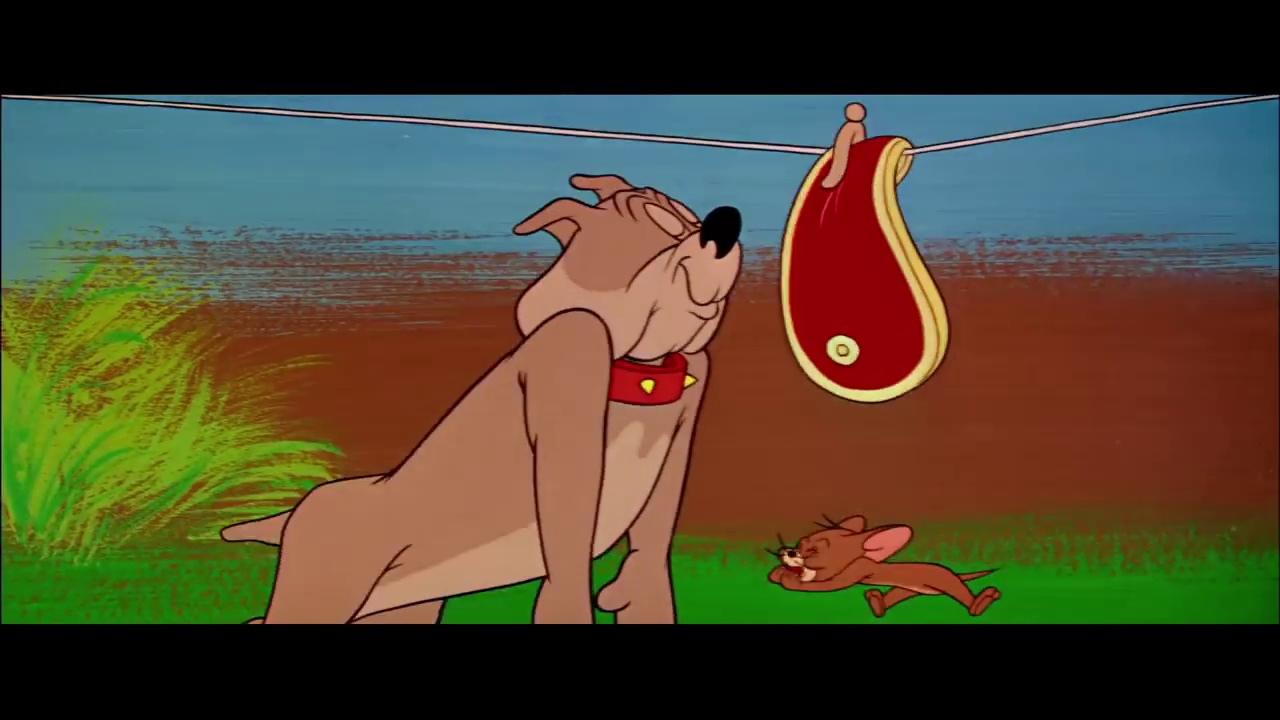spike: (510, 170, 750, 412)
